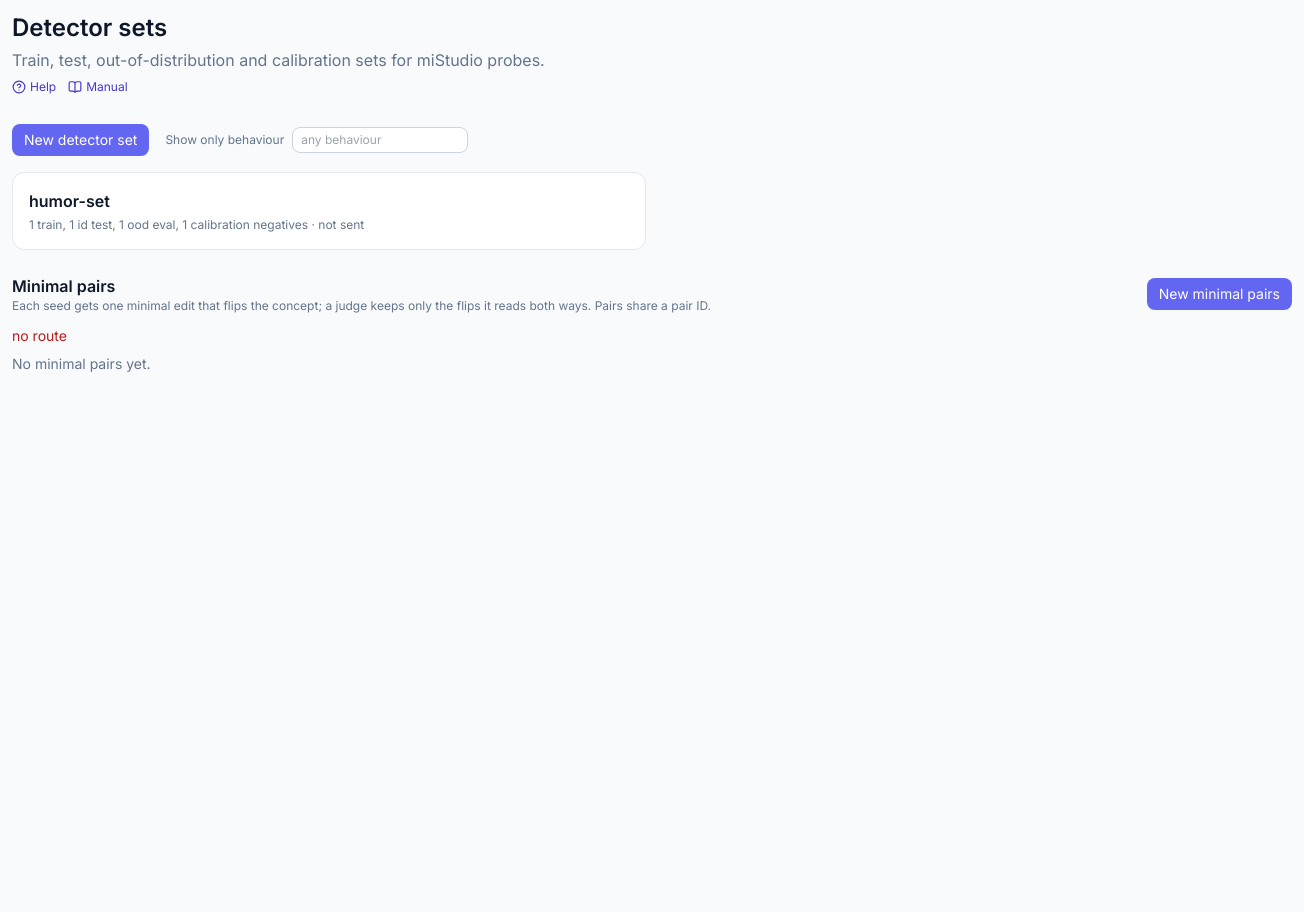
Test: DetectorSetsPanel: the open set closes by X and Escape › opens from its card and closes by the X, then by Escape
The image size is (1304, 912).
Click the button with test id "set-card-humor-set" at {"x": 69, "y": 201}, box [12, 172, 646, 250]
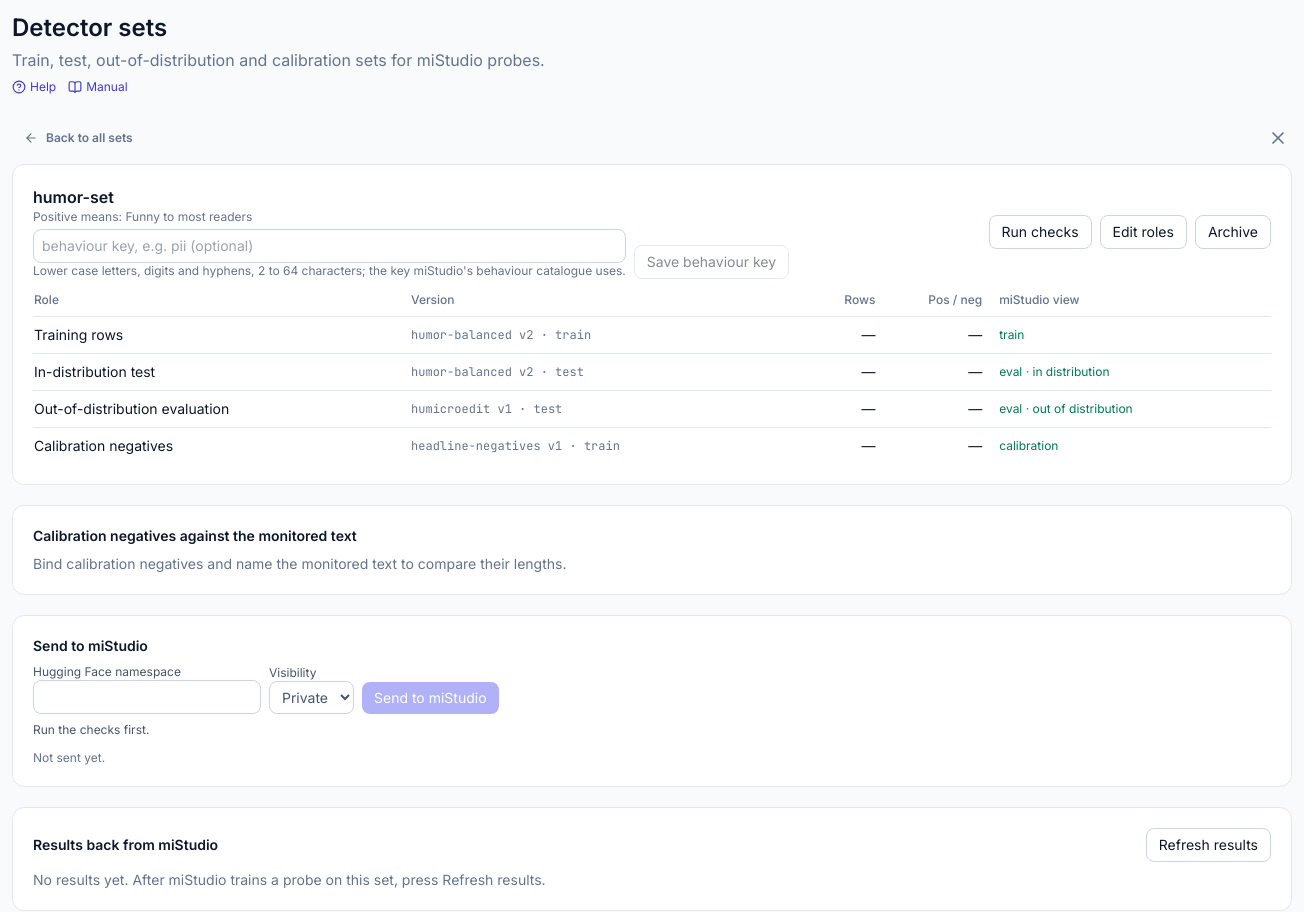
Check: the element with test id "set-detail" is shown, box [12, 164, 1292, 485]
Click the button named "Close" at {"x": 1278, "y": 138}, box [1264, 124, 1292, 152]
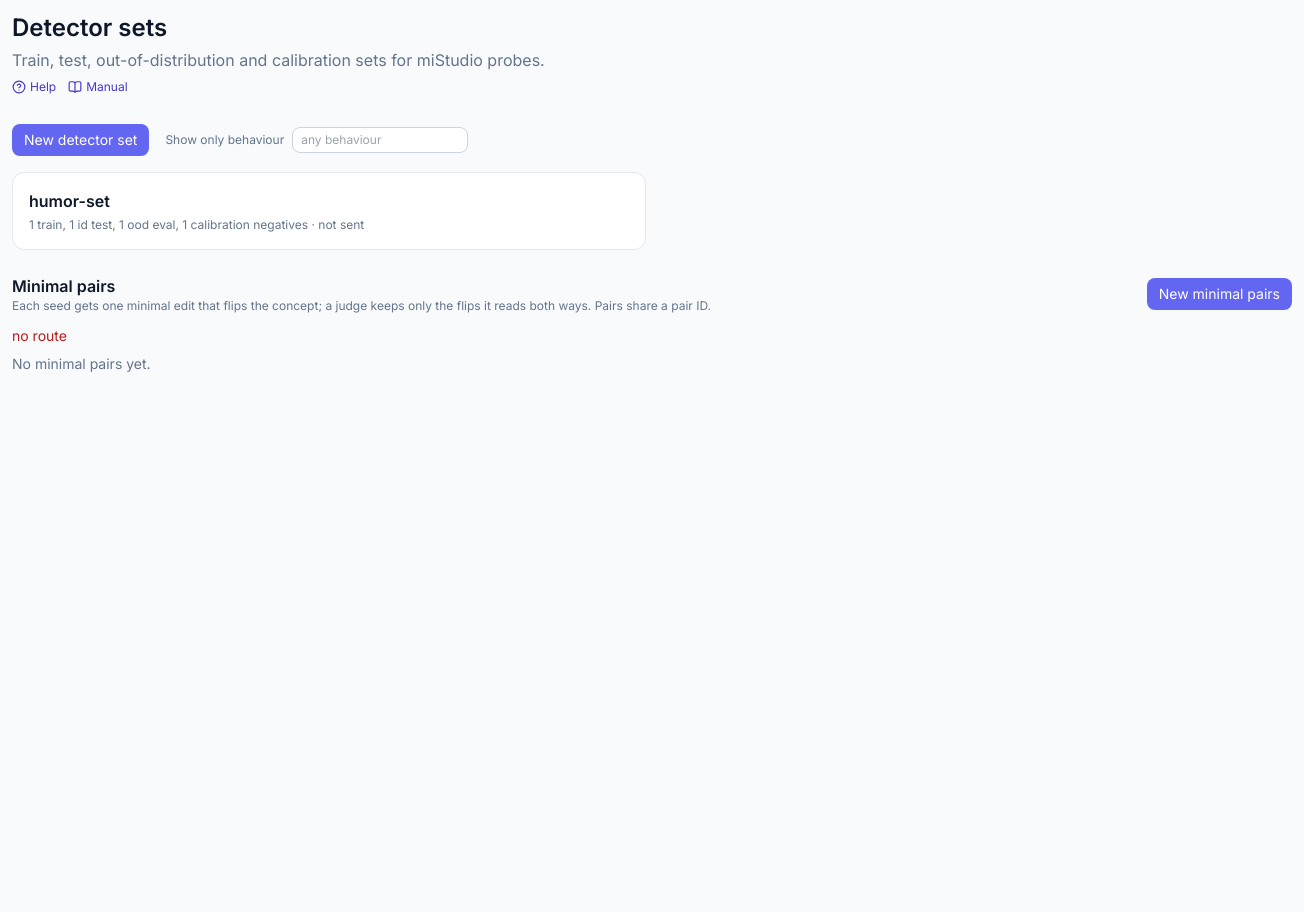
Check: the element with test id "set-detail" is gone
Click the button with test id "set-card-humor-set" at {"x": 69, "y": 201}, box [12, 172, 646, 250]
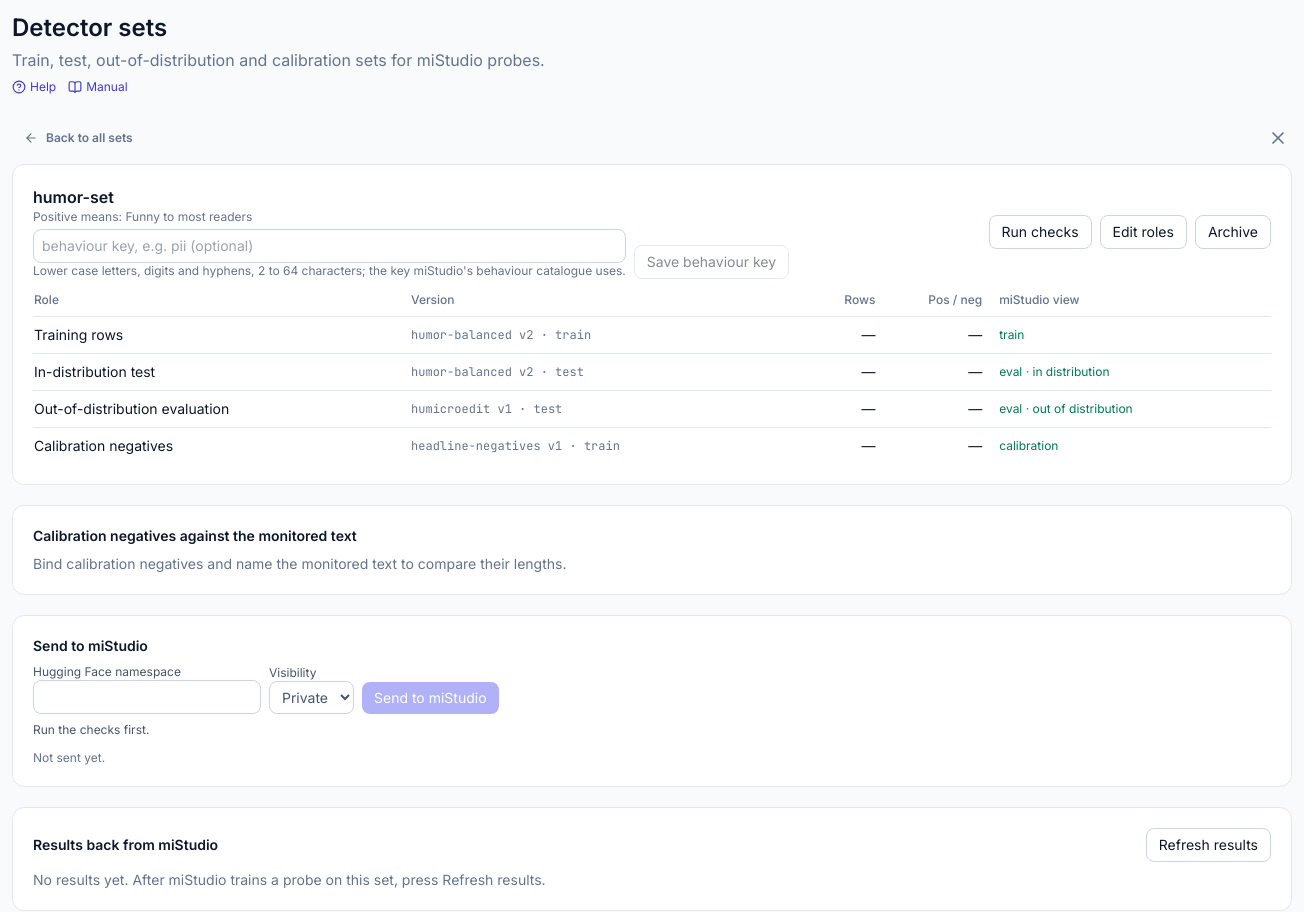
Check: the element with test id "set-detail" is shown, box [12, 164, 1292, 485]
Press Escape
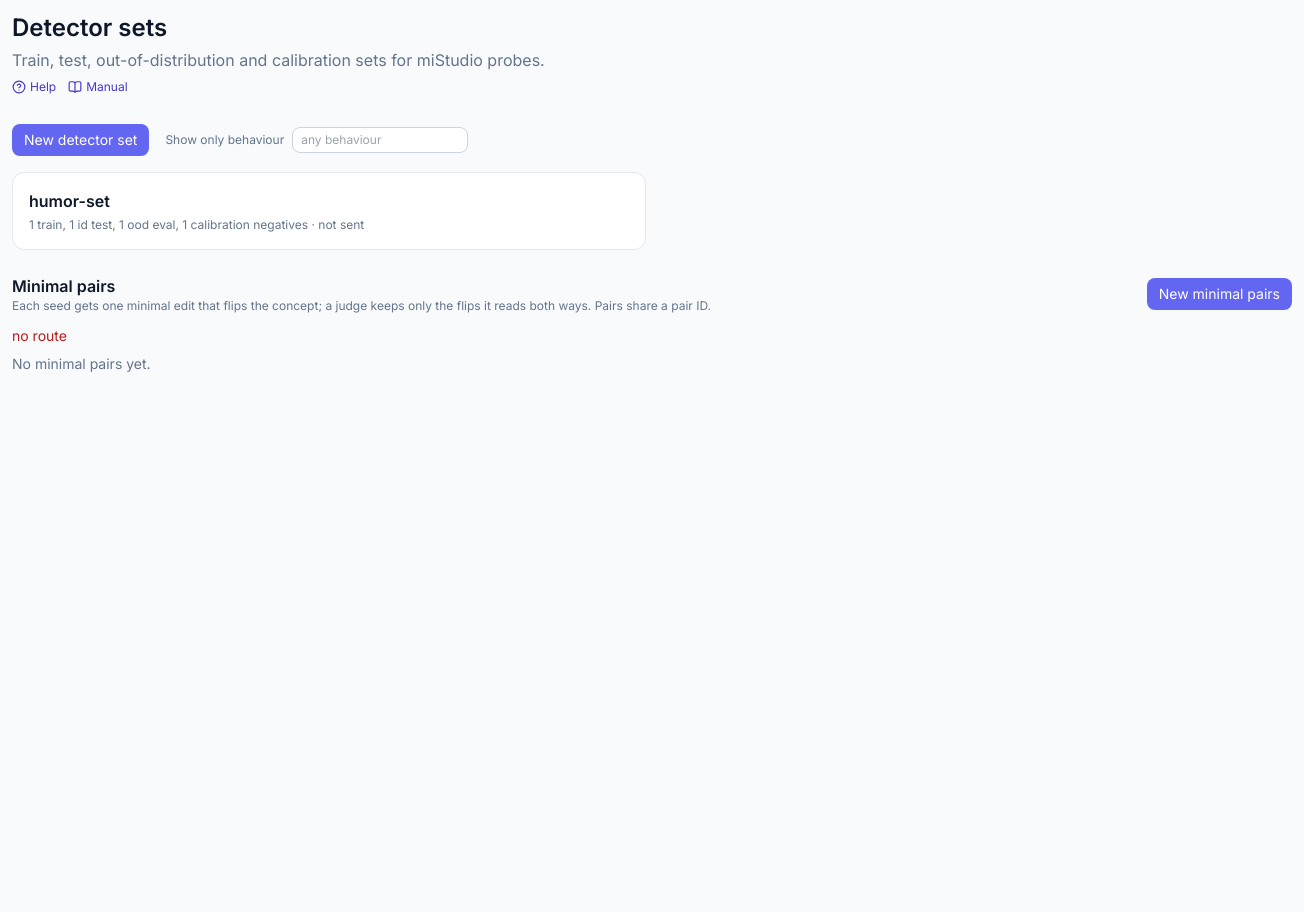
Check: the element with test id "set-detail" is gone
Check: the button with test id "set-card-humor-set" is shown, box [12, 172, 646, 250]
